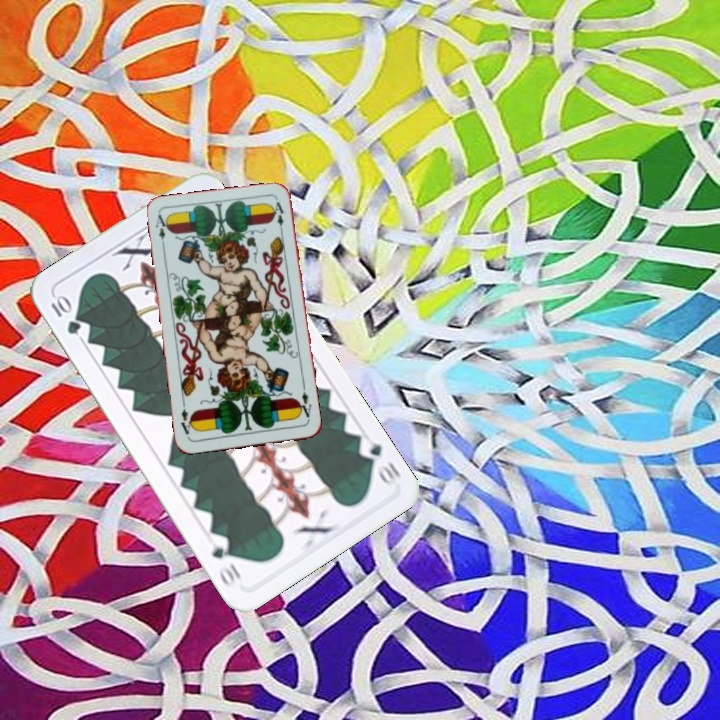EA: (294, 383, 314, 423), (151, 211, 171, 251)
G10: (354, 433, 403, 489), (46, 291, 84, 337)
